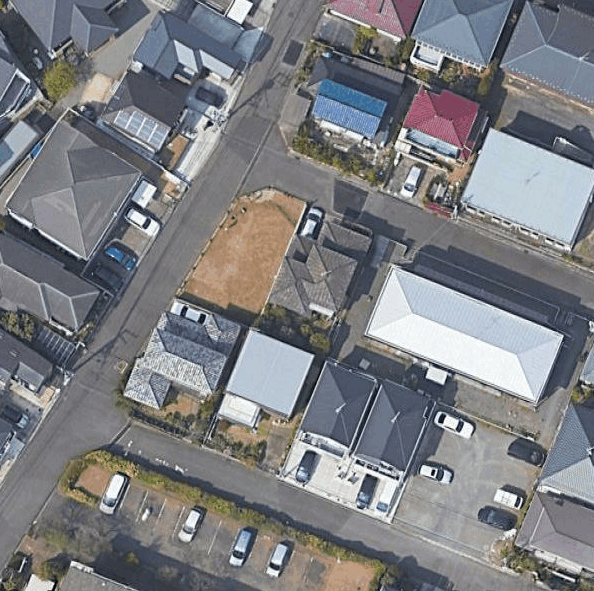flatroof: (447, 113, 593, 249)
